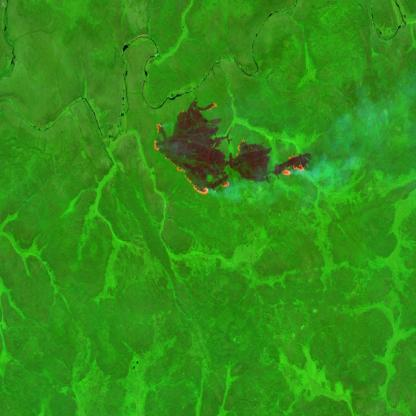fire: (152, 101, 306, 197)
